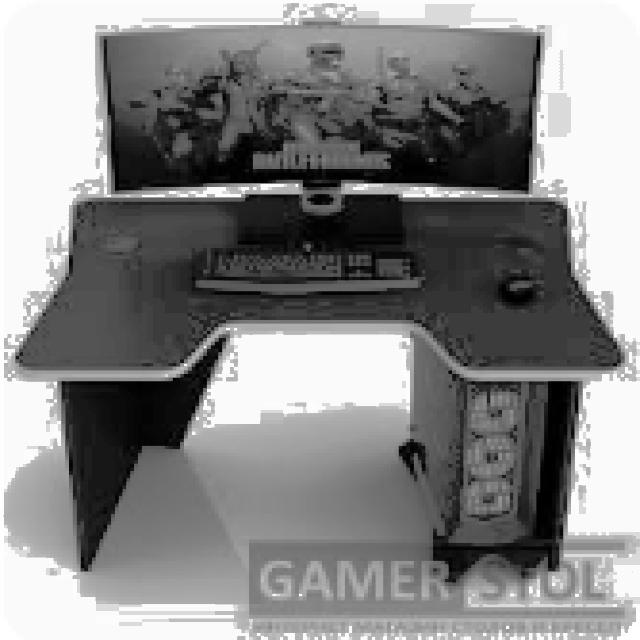table: (12, 190, 624, 572)
